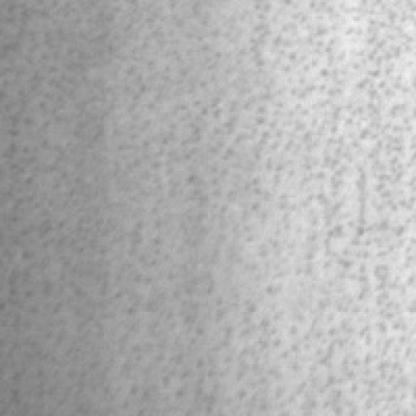pitted_surface: (10, 0, 410, 406)
